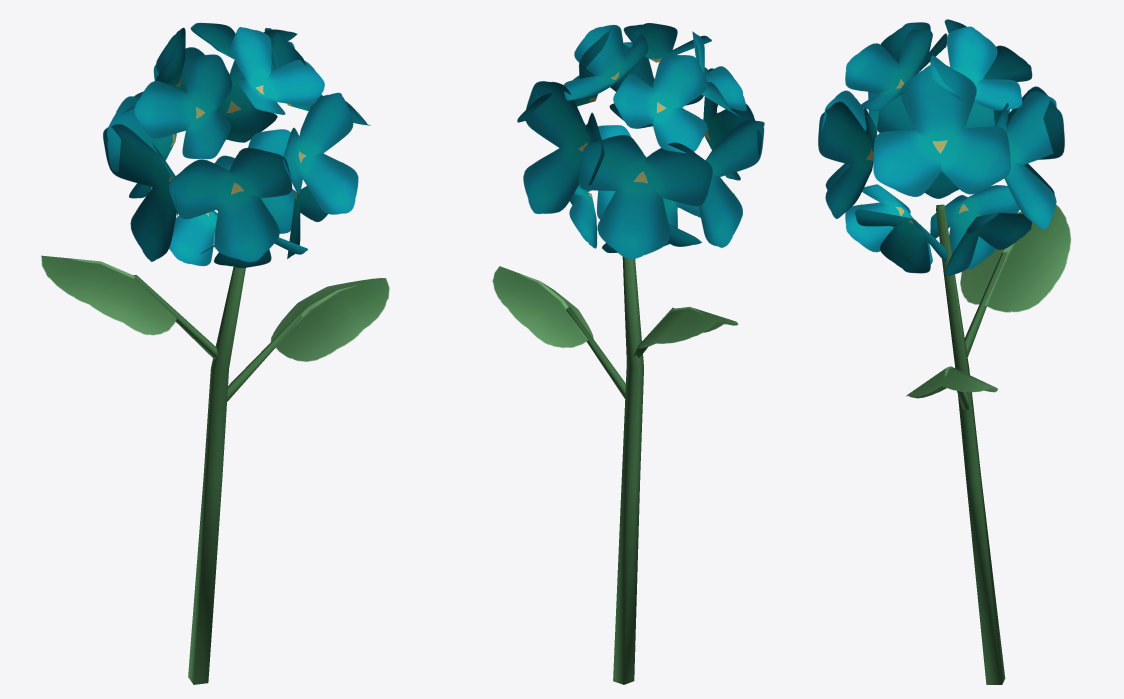
The model's file is Flower_1.glb.
The picture shows the model from 3 angles, left to right: view 1: azimuth 30°, elevation 25°; view 2: azimuth 150°, elevation 25°; view 3: azimuth 270°, elevation 25°; orthographic projection. The views are drawn at different scales.
Visible parts, largest first — view 1: Flower_1; view 2: Flower_1; view 3: Flower_1.
Part boxes in pixels (<box>): Flower_1: <box>41,22,389,684</box>; Flower_1: <box>492,23,764,684</box>; Flower_1: <box>818,19,1070,684</box>.
Bounding box in the file's own units: 0.2677 × 0.4894 × 0.2044.
Materials: 1 (1 with a texture image).
